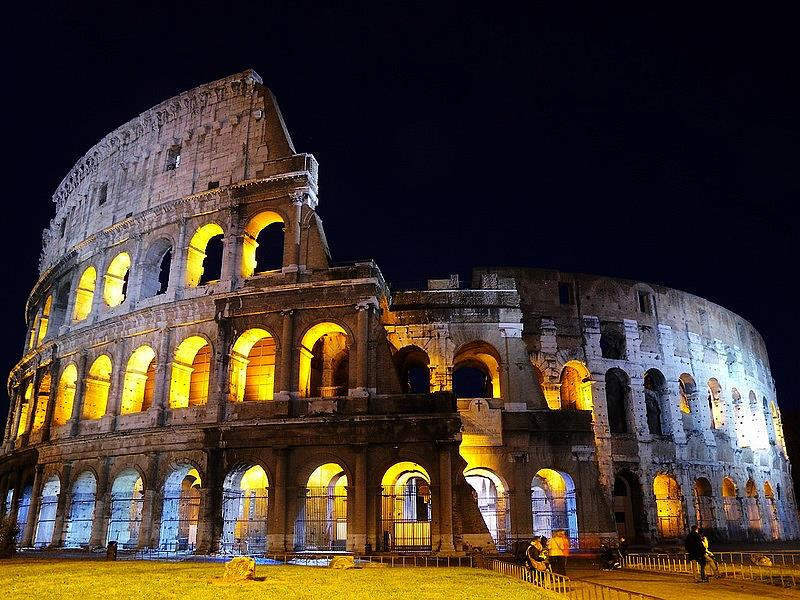Colosseum: (25, 95, 787, 558)
